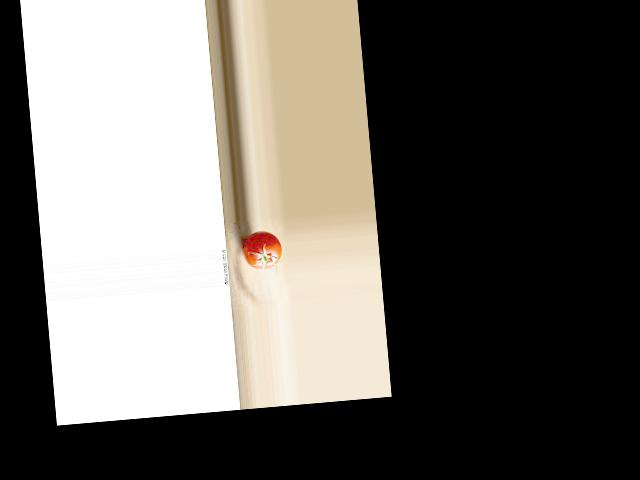tomato: (242, 230, 282, 271)
